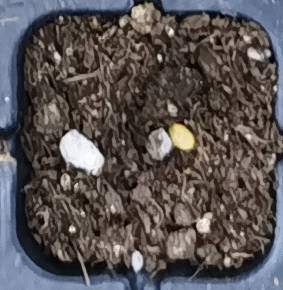chilli seed: (168, 122, 195, 150)
